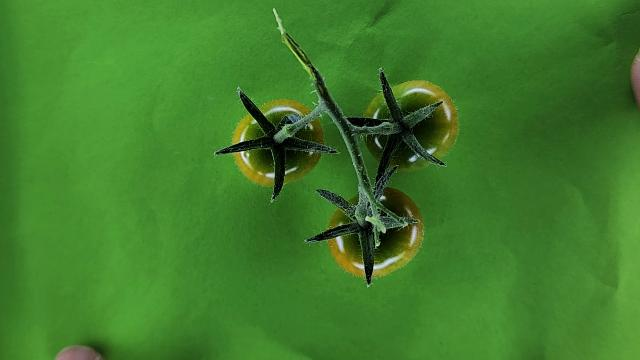Fully Grown: (361, 80, 459, 173), (326, 188, 424, 279), (230, 100, 324, 187)
